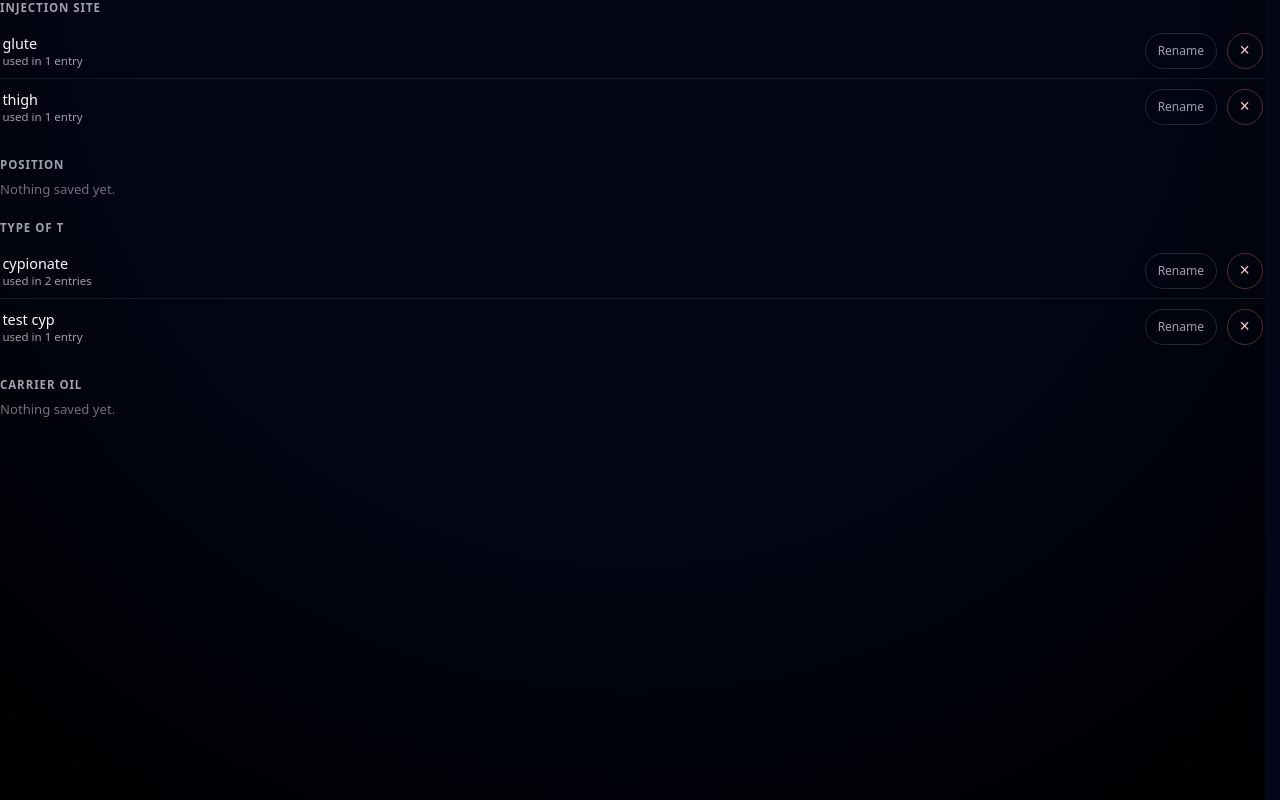
Scenario: ManageValues › restores focus to the opener button on cancel (not document.activeElement)
Click the button "Rename" in the row of "test cyp". click: (1181, 327)
box: [1145,309,1217,345]
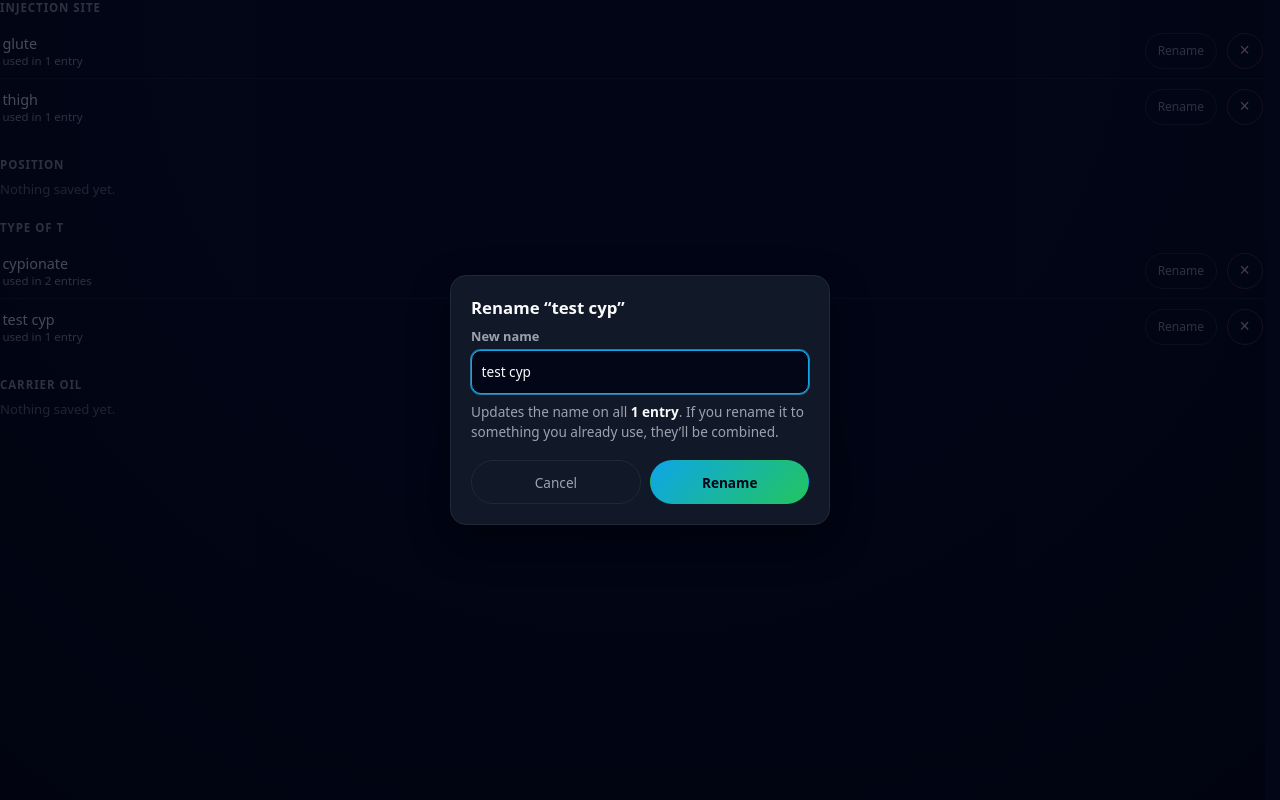
Close with Escape → focus returns to the exact button that opened it.
Press Escape
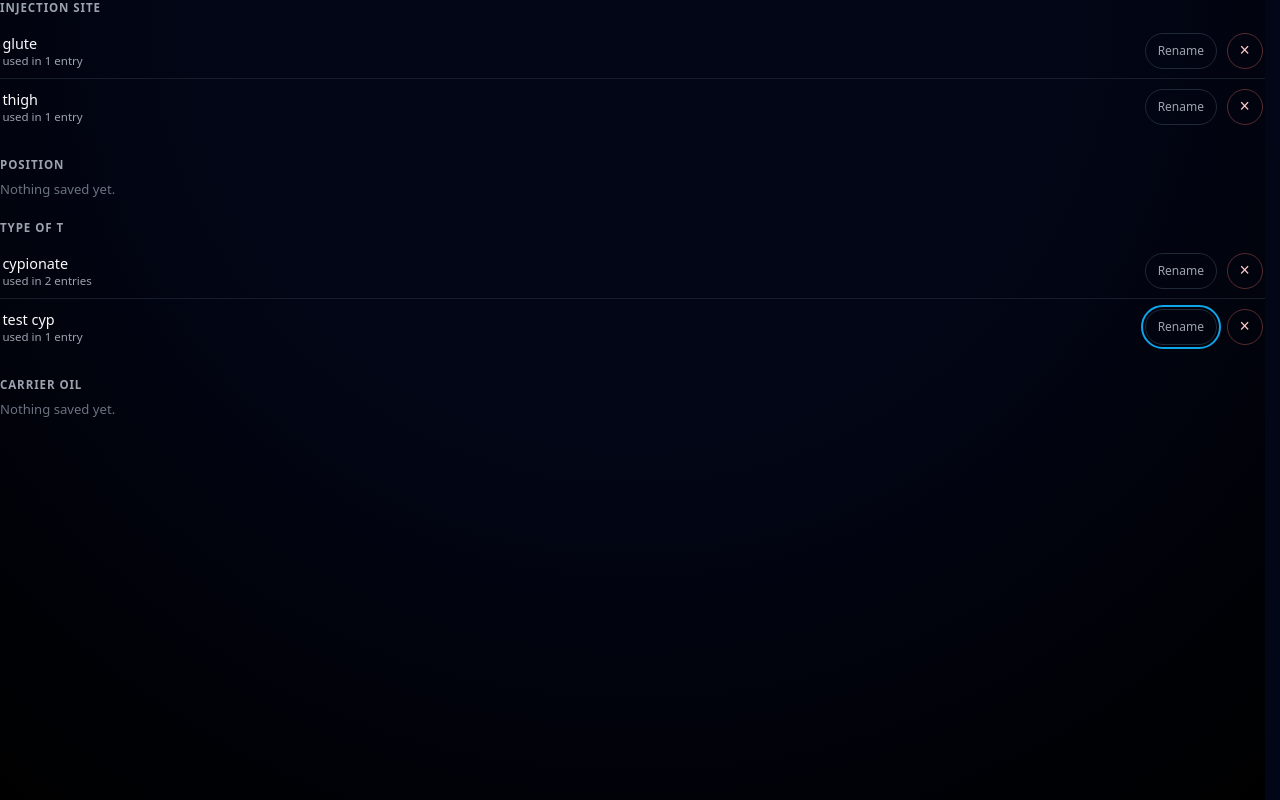
Now the dialog is gone
